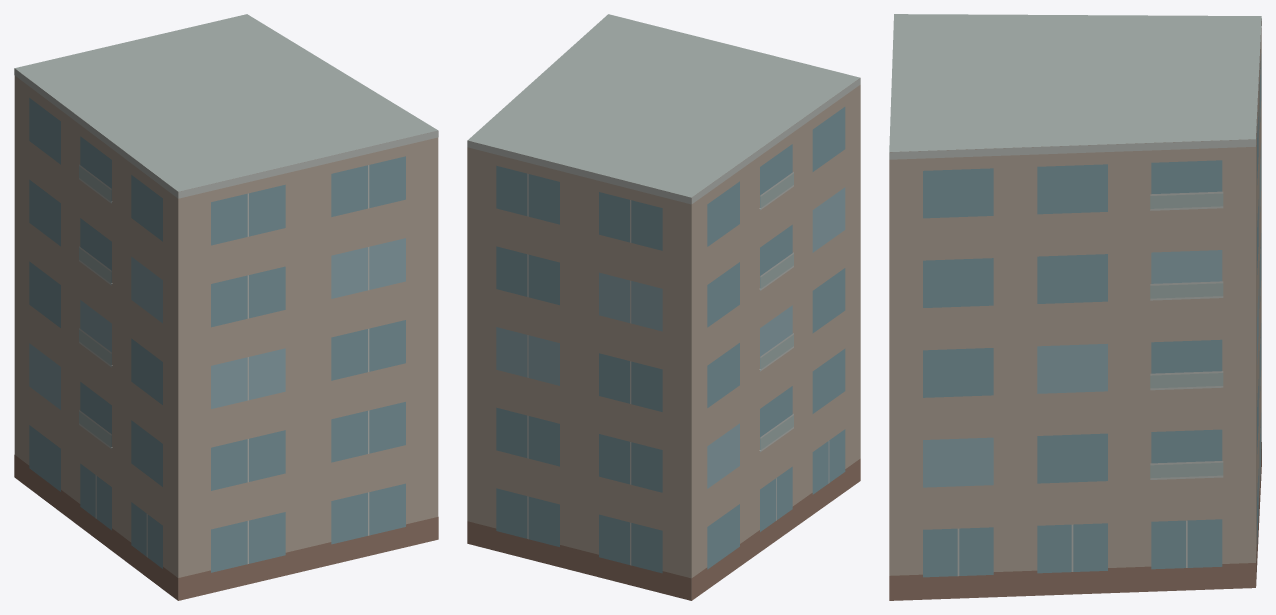
The model's file is survey-upis-32958090.glb.
3 renders of one model, left to right at view 1: azimuth 30°, elevation 25°; view 2: azimuth 150°, elevation 25°; view 3: azimuth 270°, elevation 25°, orthographic. The views are drawn at different scales.
Visible parts, largest first — view 1: survey-upis-32958090.tmp; view 2: survey-upis-32958090.tmp; view 3: survey-upis-32958090.tmp.
Part boxes in pixels (box(x1,y1,x2,y2)): survey-upis-32958090.tmp: box(14, 14, 438, 600); survey-upis-32958090.tmp: box(467, 14, 860, 600); survey-upis-32958090.tmp: box(889, 14, 1261, 600).
Bounding box in the file's own units: 9.48 × 14.35 × 10.81.
